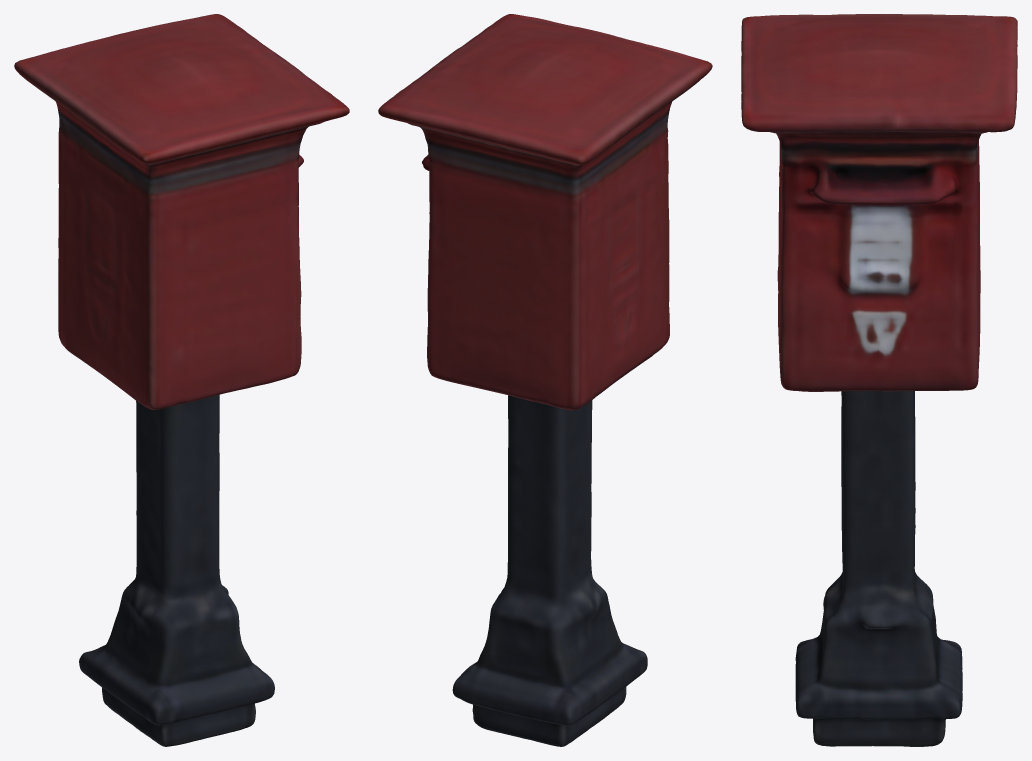
Rendered from d64ba52ab0e0_3e8ec87bea19_post_box__3d_asset_.glb.
3 views of the same model, side by side, from view 1: azimuth 30°, elevation 25°; view 2: azimuth 150°, elevation 25°; view 3: azimuth 270°, elevation 25° (orthographic). The views are drawn at different scales.
Parts seen in each view (by area): view 1: high_poly; view 2: high_poly; view 3: high_poly.
Part boxes in pixels (x1,y1,x2,y2): high_poly: (14,14,349,746); high_poly: (378,14,712,746); high_poly: (741,14,1017,746).
Bounding box in the file's own units: 0.3371 × 1 × 0.3699.
1 material, 1 textured.
